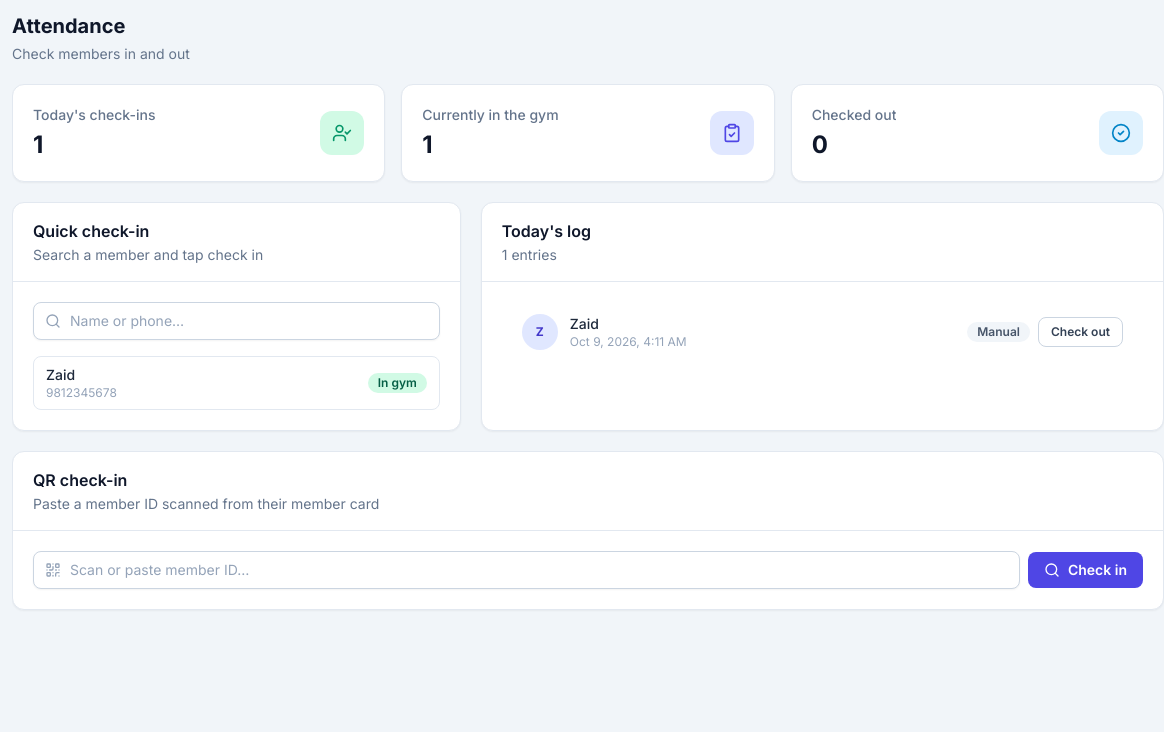
Attendance check-in/check-out › attendance list refreshes from the realtime subscription after a check-out
This screenshot has width=1164, height=732.
Click the button "Check out": (1080, 332) [1038,317,1123,347]
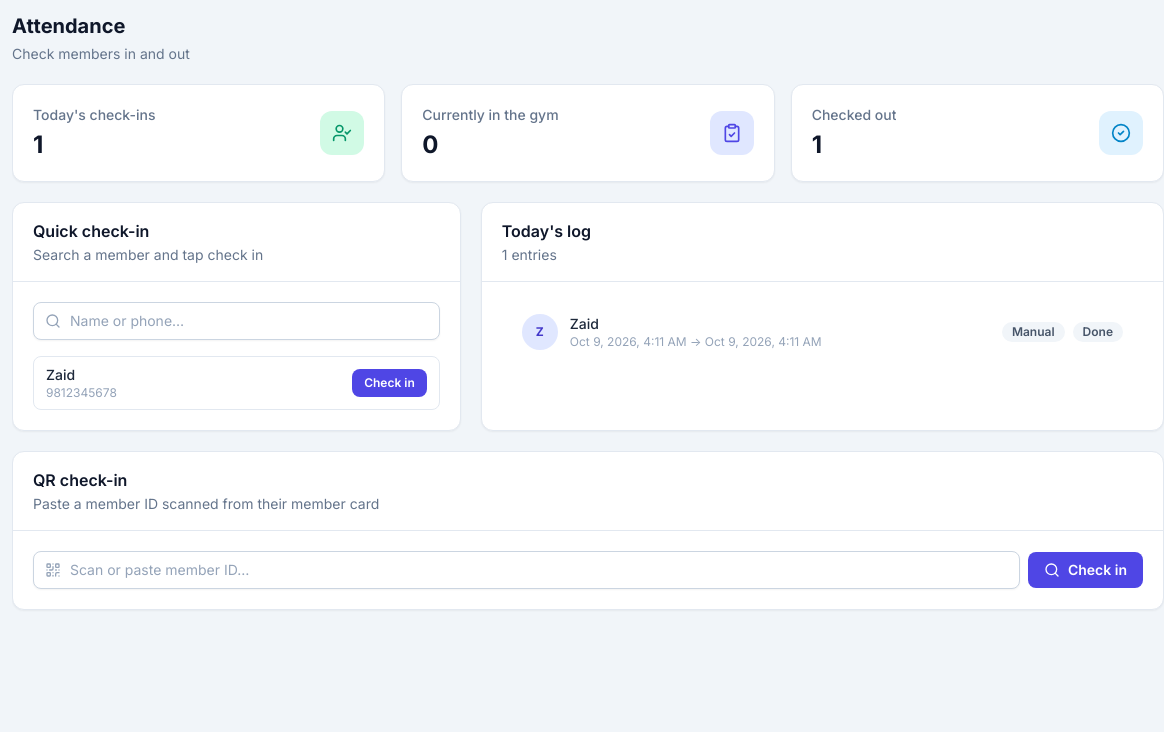
Now the text "Done" is shown, box [1073,322,1123,342]
